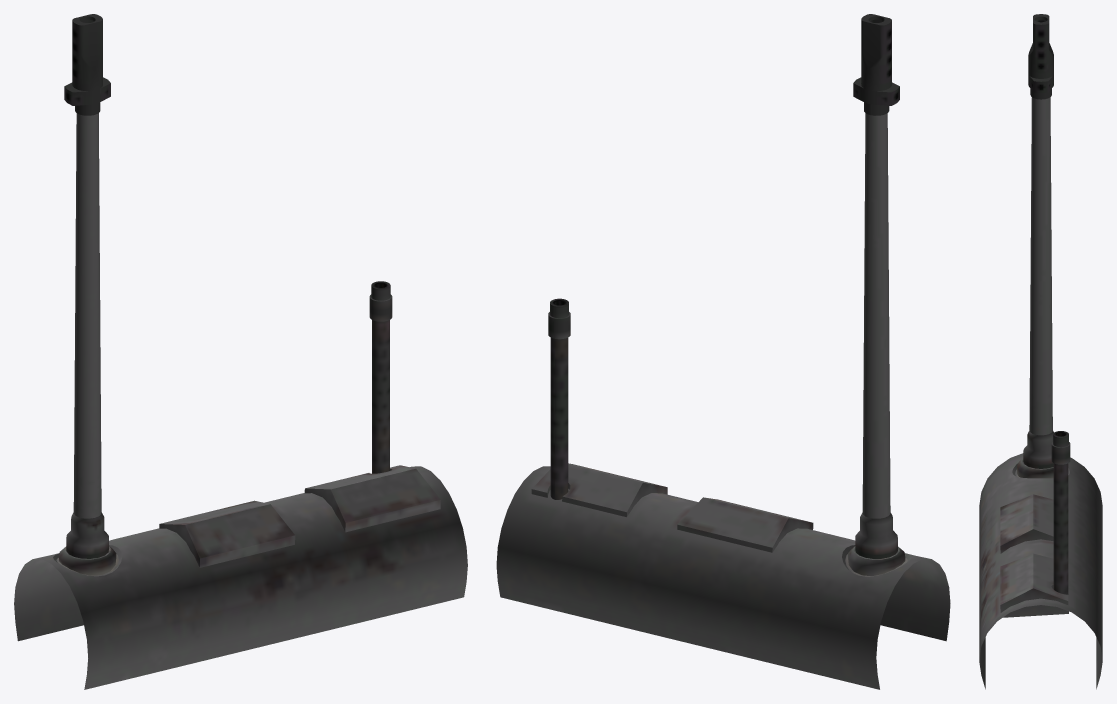
Rendered from Gun_08.glb.
3 renders of one model, left to right at view 1: azimuth 30°, elevation 25°; view 2: azimuth 150°, elevation 25°; view 3: azimuth 270°, elevation 25°, orthographic. The views are drawn at different scales.
Parts seen in each view (by area): view 1: set_0_group_0; view 2: set_0_group_0; view 3: set_0_group_0.
Part boxes in pixels (x1,y1,x2,y2): set_0_group_0: (14, 14, 467, 689); set_0_group_0: (496, 14, 950, 689); set_0_group_0: (979, 14, 1102, 689).
Size of the model in its own units: 0.7421 by 1.19 by 0.2509.
1 material, 1 textured.
